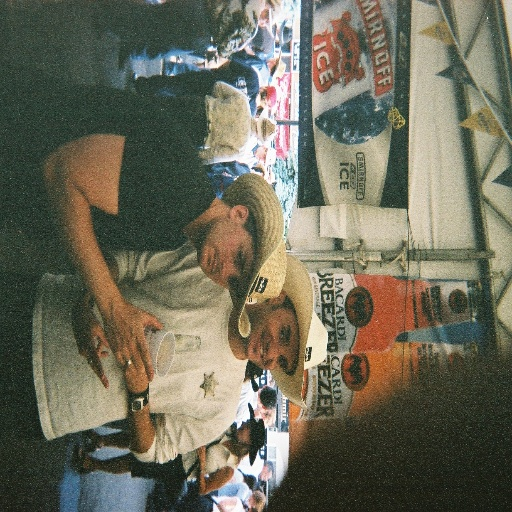hand: (99, 299, 149, 392), (68, 306, 111, 388), (124, 354, 153, 398), (197, 445, 205, 463)
